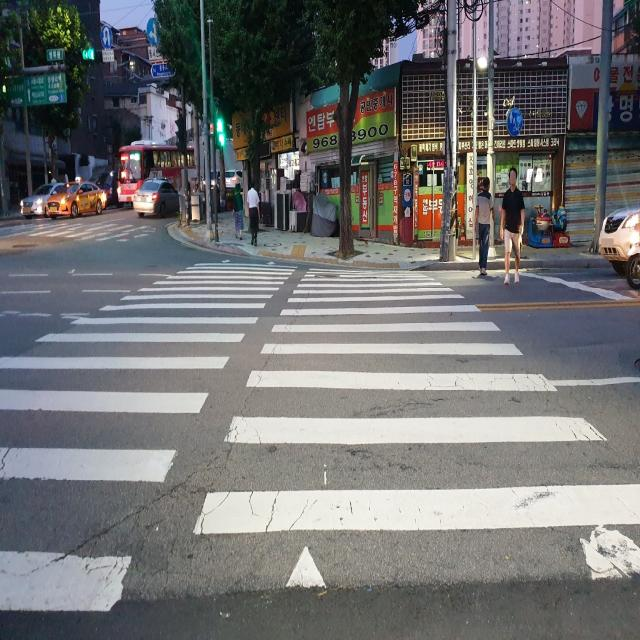초록불: (217, 110, 224, 151)
횡단보도: (0, 259, 640, 612)
